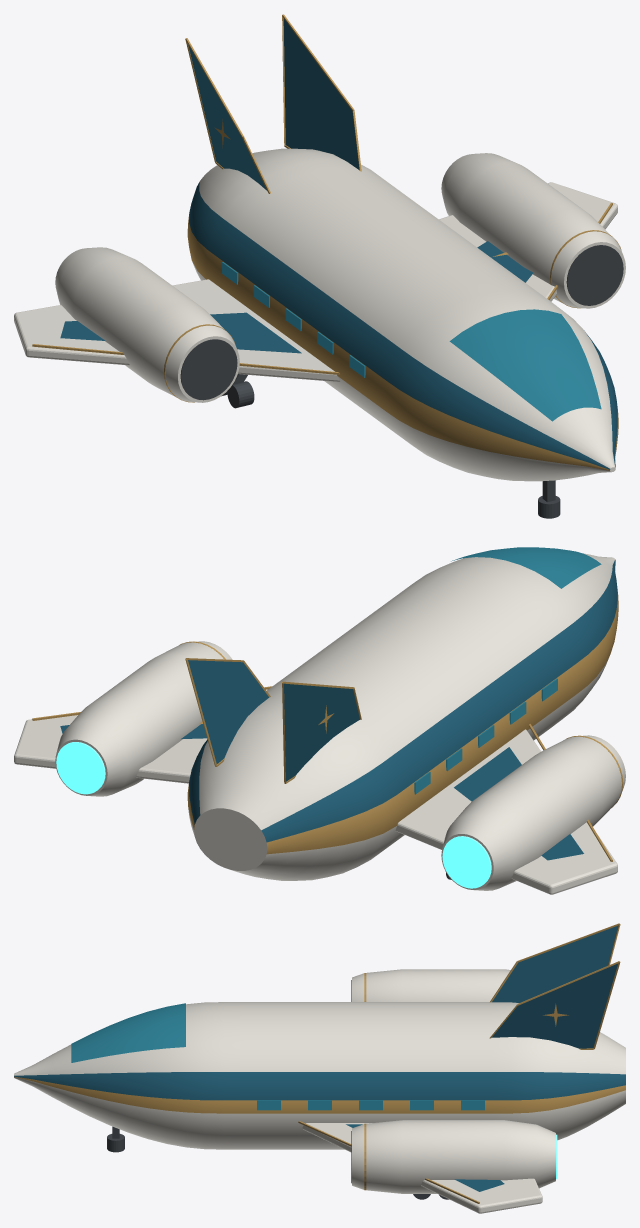
Rendered from Royal.glb.
3 renders of one model, top to bottom at view 1: azimuth 30°, elevation 25°; view 2: azimuth 150°, elevation 25°; view 3: azimuth 270°, elevation 25°, orthographic. The views are drawn at different scales.
Visible parts, largest first — view 1: GW Ivory, GW Teal, GW Gold, GW Glass Dark, GW Metal; view 2: GW Ivory, GW Teal, GW Gold, GW Light, GW Glass Dark; view 3: GW Ivory, GW Teal, GW Gold, GW Glass Dark, GW Metal.
Part boxes in pixels (x1,y1,x2,y2): GW Ivory: (14, 148, 625, 481); GW Teal: (60, 18, 617, 469); GW Gold: (32, 14, 621, 470); GW Glass Dark: (222, 262, 601, 421); GW Metal: (180, 245, 623, 518); GW Ivory: (14, 553, 625, 894); GW Teal: (60, 559, 617, 860); GW Gold: (32, 563, 623, 861); GW Light: (56, 742, 491, 888); GW Glass Dark: (414, 547, 601, 794); GW Ivory: (14, 969, 625, 1213); GW Teal: (14, 926, 625, 1191); GW Gold: (14, 923, 625, 1203); GW Glass Dark: (71, 1003, 484, 1110); GW Metal: (107, 980, 448, 1199).
Size of the model in its own units: 70.37 by 29.6 by 78.72.
